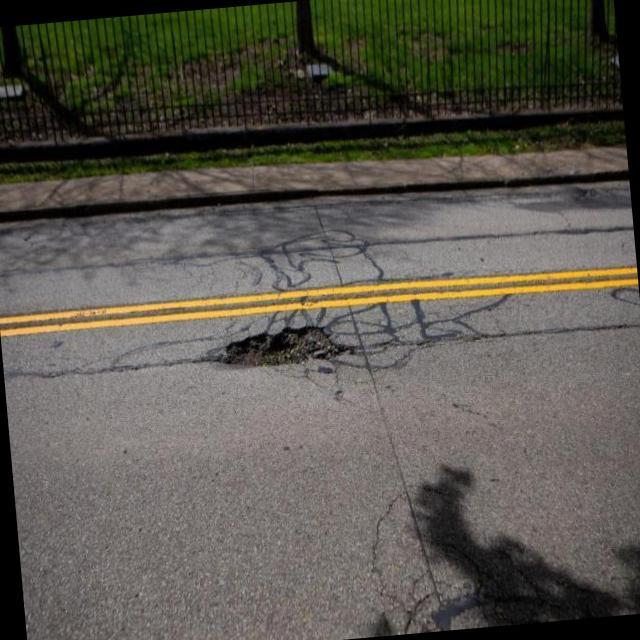Pothole: (219, 324, 349, 366)
